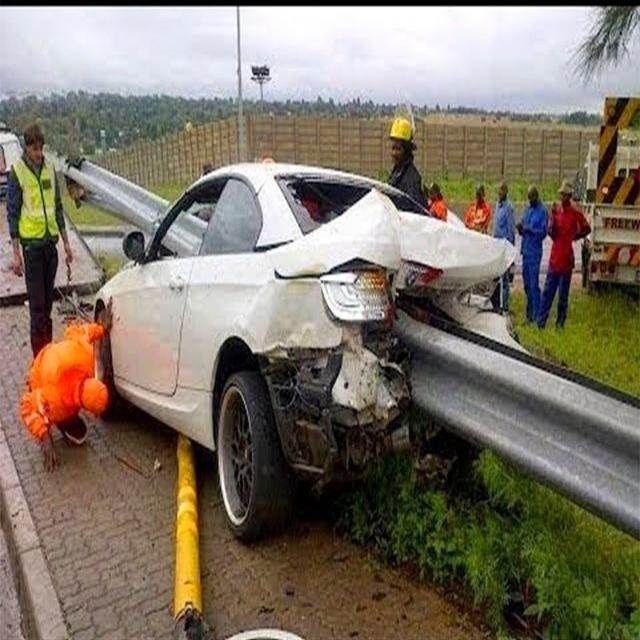crush: (251, 175, 531, 487)
